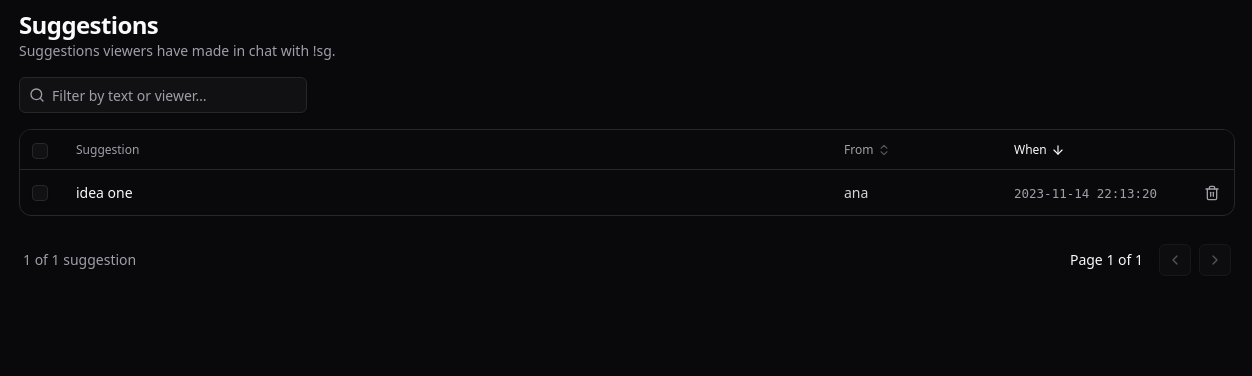
Scenario: Suggestions › says so when nothing matches, rather than that there are none
Type "nothing" into the field with placeholder "Filter by text or viewer…" at (163, 95), box [19, 77, 307, 113]
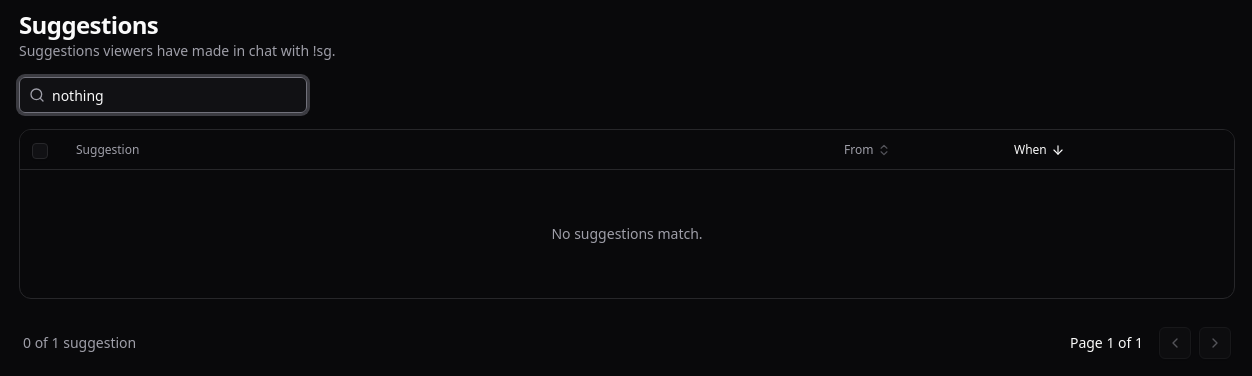
Check: the text "No suggestions match." is shown, box [20, 170, 1234, 298]
